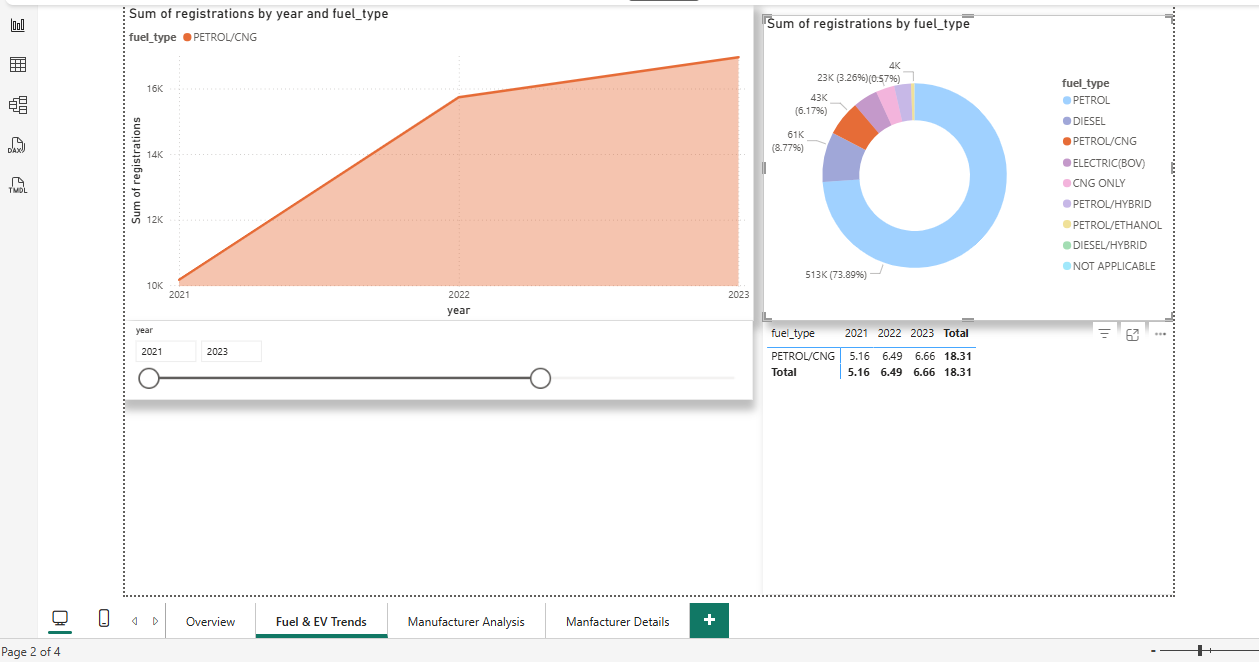

This screenshot's page, from the dashboard's own definition file:
{"tool":"powerbi","page":{"name":"Fuel & EV Trends","canvas":[1280,720],"ordinal":1},"visuals":[{"type":"stackedAreaChart","fields":{"Category":["ev_fuel_trends.year"],"Y":["Sum(ev_fuel_trends.registrations)"],"Series":["ev_fuel_trends.fuel_type"]},"box":[0,0,766.6,385.4],"z":0},{"type":"slicer","fields":{"Values":["ev_fuel_trends.year"]},"box":[0,360.6,766.6,96.3],"z":1000},{"type":"donutChart","fields":{"Y":["Sum(ev_fuel_trends.registrations)"],"Category":["ev_fuel_trends.fuel_type"]},"box":[779,12.4,501,373],"z":2000},{"type":"pivotTable","fields":{"Rows":["ev_fuel_trends.fuel_type"],"Columns":["ev_fuel_trends.year"],"Values":["Sum(ev_fuel_trends.market_share_pct)"]},"box":[779,385.4,501,334.5],"z":3000}]}

Visuals, with their boxes on the page's 1280x720 design canvas (x1, y1, x2, y2). These are canvas units, not pixel positions in the 1259x662 screenshot, which may show the page scaled, cropped or inside an application window:
stackedAreaChart - ev_fuel_trends.year x Sum(ev_fuel_trends.registrations): x1=0 y1=0 x2=767 y2=385
slicer - ev_fuel_trends.year: x1=0 y1=361 x2=767 y2=457
donutChart - Sum(ev_fuel_trends.registrations) x ev_fuel_trends.fuel_type: x1=779 y1=12 x2=1280 y2=385
pivotTable - ev_fuel_trends.fuel_type x ev_fuel_trends.year: x1=779 y1=385 x2=1280 y2=720
